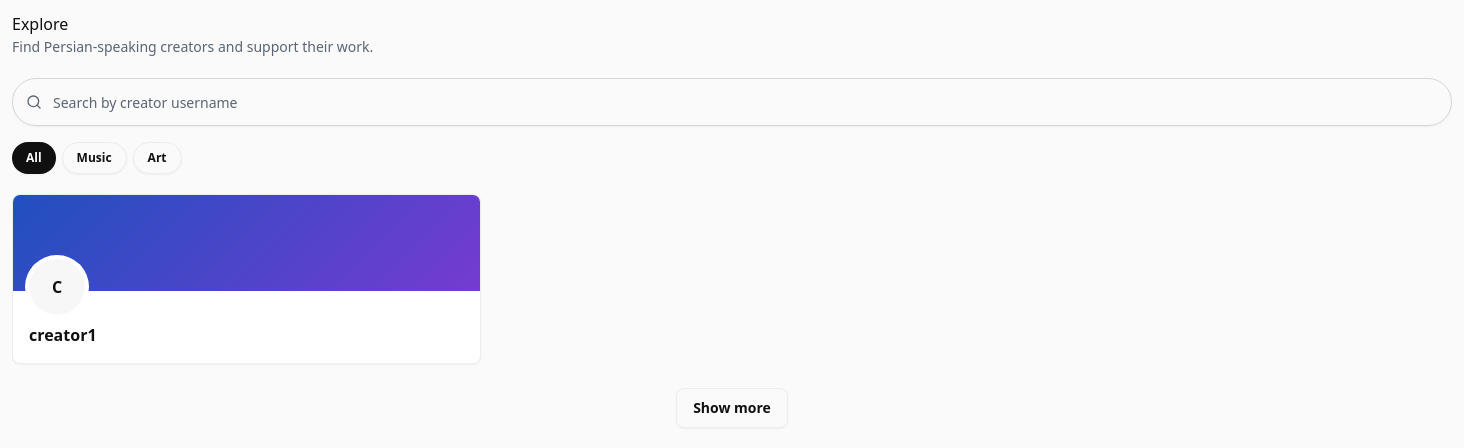
ExploreView › offers a retry when the next page fails, keeping the cards
Step 1. Click the button "Show more" → [732, 408], box top-left (676, 388), bottom-right (788, 428)
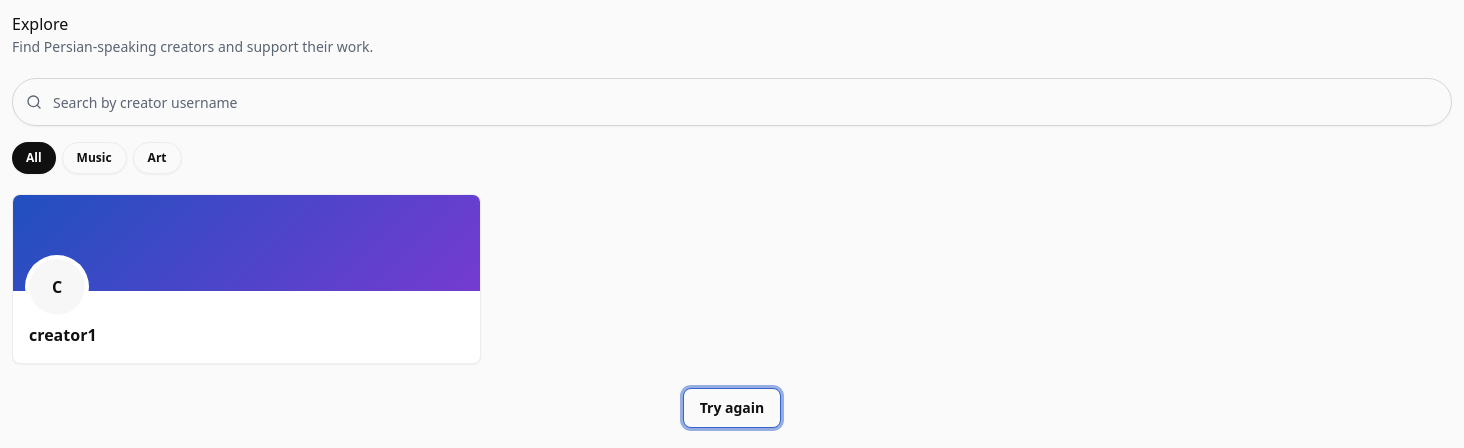
expect the heading "creator1" is shown: met, box top-left (29, 324), bottom-right (97, 346)
expect the button "Try again" is shown: met, box top-left (683, 388), bottom-right (781, 428)
